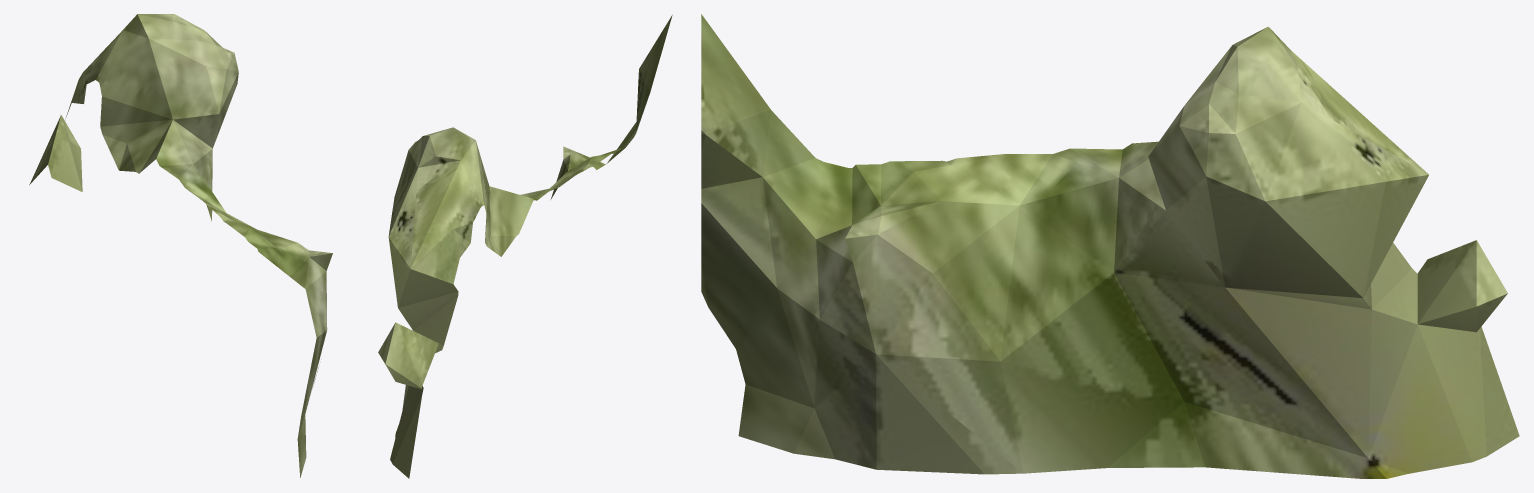
3 views of the same model, side by side, from view 1: azimuth 30°, elevation 25°; view 2: azimuth 150°, elevation 25°; view 3: azimuth 270°, elevation 25° (orthographic). The views are drawn at different scales.
Bounding box in the file's own units: 0.4507 × 1.24 × 2.13.
Materials: 1 (1 with a texture image).
